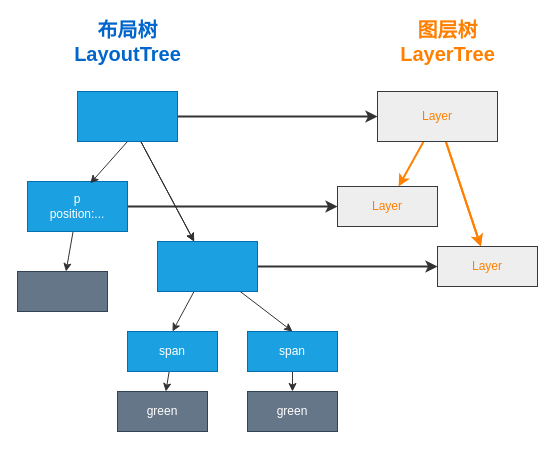
Some shapes in this 555 by 449 pixel diagram are drawn without their labels. The shapes that lost their labels are listed below. From the top down, each one's centre as x and y in pixels, then its label:
At point (127, 116): "body".
At point (207, 266): "div transform:...".
At point (62, 291): "渲染流程".
